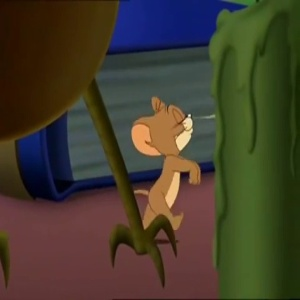Jerry: (127, 92, 197, 156)
